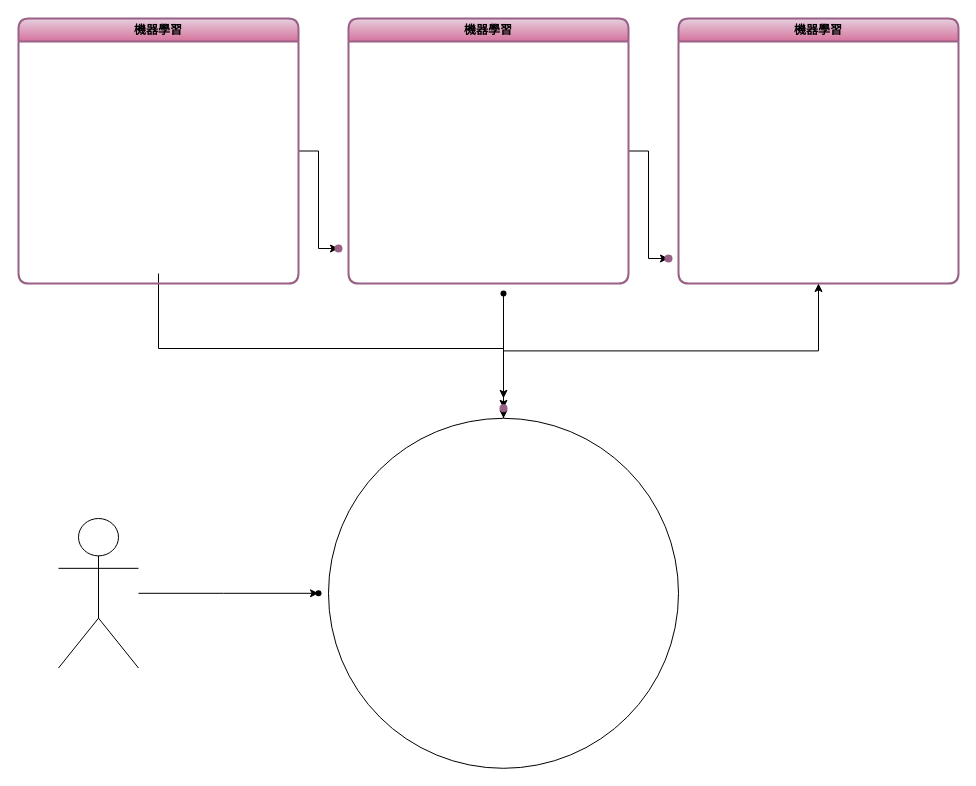
Image size: 976x786. Some labels were removed from this diagram. Each missing label, with the centre of its shape:
Actor: point (98, 593)
System: point (503, 592)
